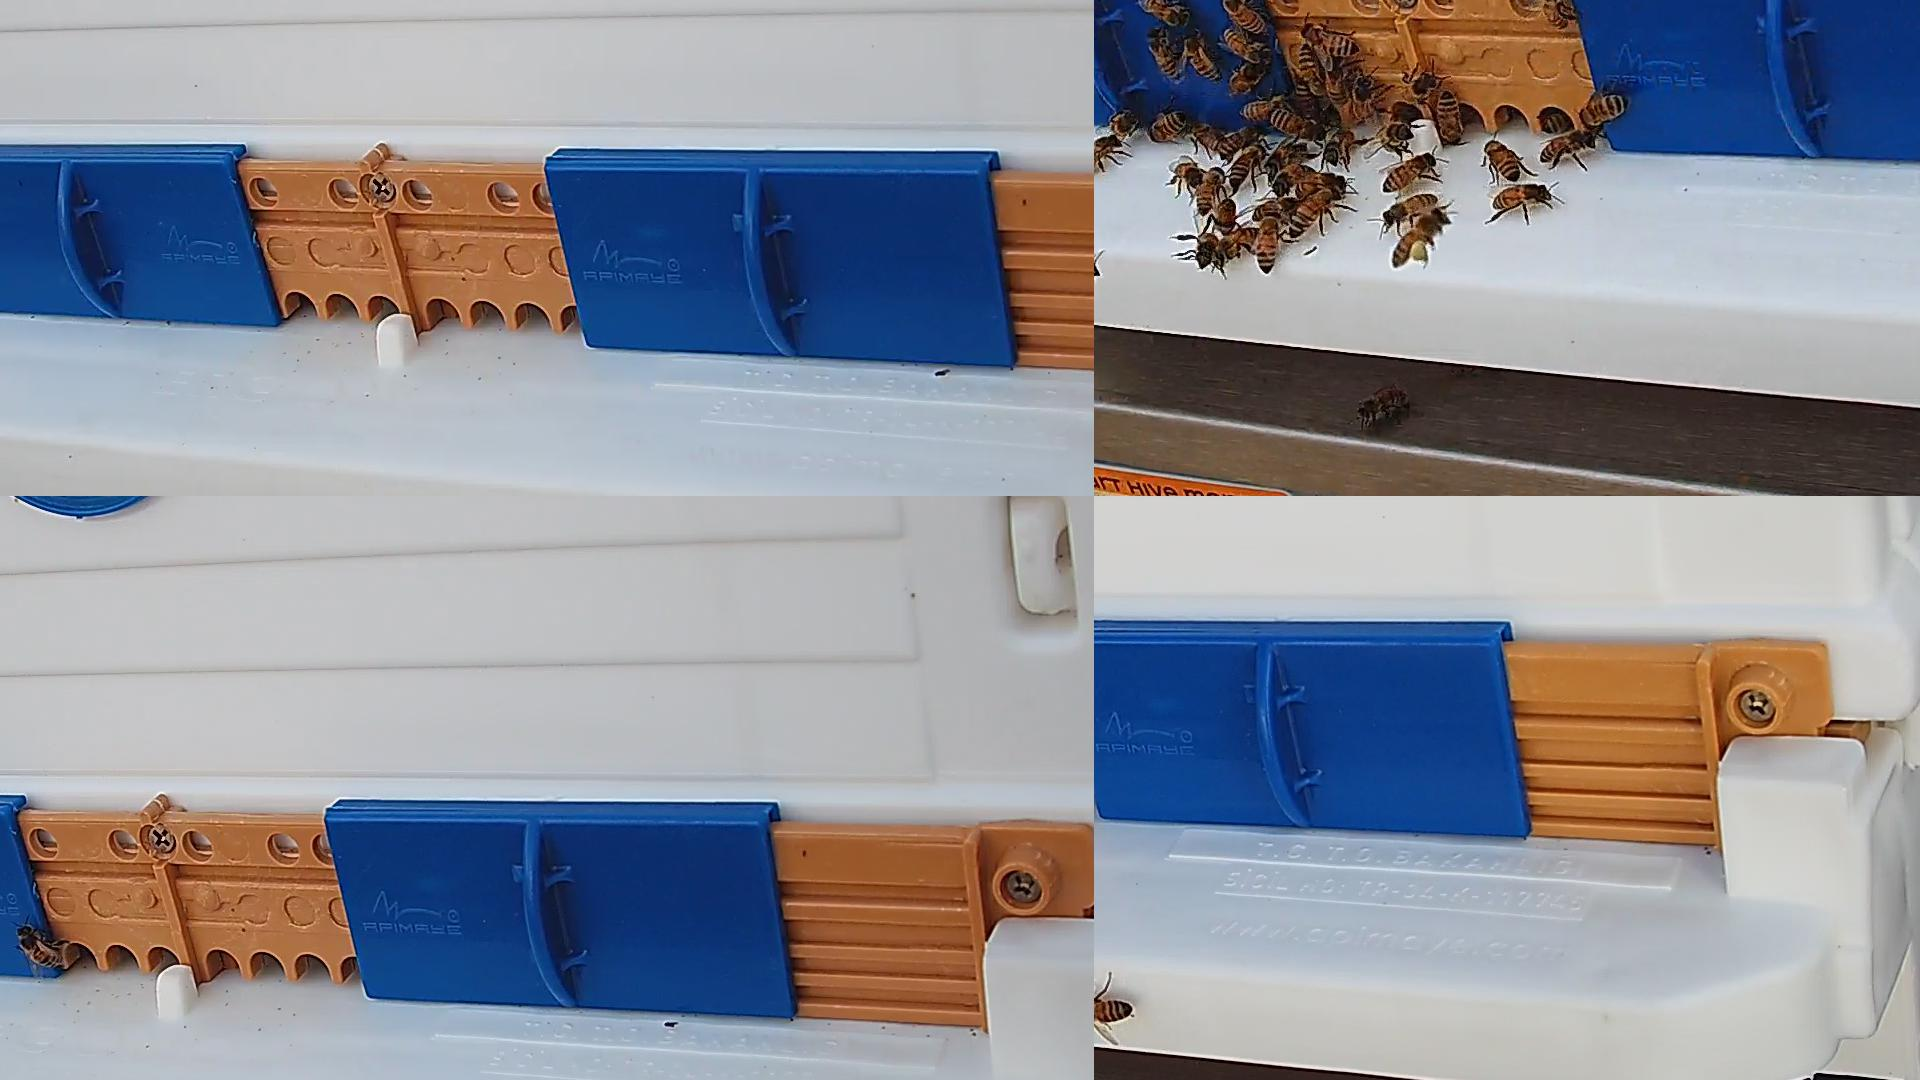bee: (17, 926, 69, 969), (1287, 193, 1332, 240), (1383, 153, 1437, 191), (1215, 228, 1261, 269), (1540, 132, 1596, 165), (1270, 108, 1328, 138), (1358, 385, 1408, 419), (1225, 29, 1270, 67), (1184, 36, 1222, 80), (1221, 0, 1269, 36), (1303, 22, 1358, 53), (1385, 194, 1439, 224), (1230, 144, 1267, 187), (1147, 30, 1179, 79), (1391, 73, 1437, 105), (1582, 94, 1629, 125), (1238, 92, 1296, 117), (1485, 138, 1519, 181), (1357, 70, 1381, 129), (1497, 186, 1549, 212), (1218, 129, 1267, 157), (1257, 218, 1280, 274), (1267, 144, 1309, 175), (1437, 94, 1464, 144), (1299, 45, 1325, 94), (1298, 173, 1346, 199), (1197, 169, 1225, 214), (1145, 0, 1191, 26), (1229, 62, 1266, 94), (1253, 199, 1300, 223), (1095, 994, 1129, 1026), (1271, 167, 1309, 195), (1150, 113, 1185, 142), (1323, 132, 1353, 165), (1095, 136, 1120, 175), (1542, 0, 1575, 28), (1192, 124, 1225, 150), (1378, 125, 1411, 149), (1296, 79, 1317, 113), (1199, 232, 1218, 268), (1175, 162, 1201, 189), (1329, 80, 1352, 111), (1218, 199, 1234, 240), (1113, 115, 1137, 137)
pollenbee: (1393, 211, 1448, 268)
